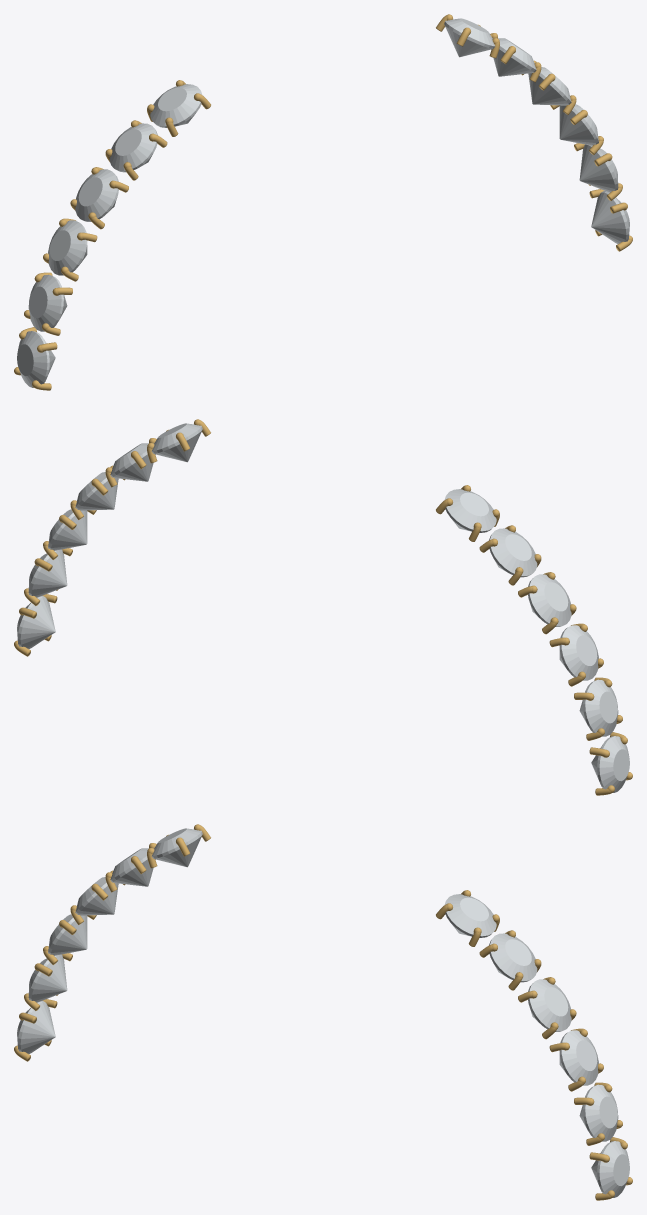
Rendered from accents-pave.glb.
The picture shows the model from 3 angles, top to bottom: view 1: azimuth 30°, elevation 25°; view 2: azimuth 150°, elevation 25°; view 3: azimuth 330°, elevation 25°; orthographic projection.
Parts seen in each view (by area): view 1: Gem.002, Gem.001, Gem.003, Gem, Gem.004, Gem.005, Gem.011, Gem.010, Gem.006, Gem.009, Gem.008, Gem.007; view 2: Gem.002, Gem.001, Gem.003, Gem, Gem.004, Gem.005, Gem.011, Gem.010, Gem.006, Gem.009, Gem.008, Gem.007; view 3: Gem.008, Gem.007, Gem.009, Gem.006, Gem.010, Gem.011, Gem.005, Gem.004, Gem, Gem.003, Gem.002, Gem.001.
Boxes of the visible parts, x1=… form: Gem.002: x1=75, y1=169, x2=118, y2=221; Gem.001: x1=109, y1=123, x2=157, y2=172; Gem.003: x1=48, y1=220, x2=87, y2=275; Gem: x1=150, y1=84, x2=201, y2=127; Gem.004: x1=28, y1=274, x2=67, y2=331; Gem.005: x1=17, y1=331, x2=55, y2=387; Gem.011: x1=591, y1=191, x2=629, y2=243; Gem.010: x1=579, y1=144, x2=618, y2=192; Gem.006: x1=444, y1=18, x2=495, y2=57; Gem.009: x1=559, y1=104, x2=598, y2=145; Gem.008: x1=528, y1=67, x2=571, y2=105; Gem.007: x1=491, y1=38, x2=536, y2=76; Gem.002: x1=528, y1=574, x2=571, y2=626; Gem.001: x1=489, y1=528, x2=537, y2=577; Gem.003: x1=559, y1=625, x2=598, y2=680; Gem: x1=445, y1=489, x2=496, y2=532; Gem.004: x1=579, y1=679, x2=618, y2=736; Gem.005: x1=591, y1=736, x2=629, y2=792; Gem.011: x1=17, y1=596, x2=55, y2=648; Gem.010: x1=28, y1=549, x2=67, y2=597; Gem.006: x1=151, y1=423, x2=202, y2=462; Gem.009: x1=48, y1=509, x2=87, y2=550; Gem.008: x1=75, y1=472, x2=118, y2=510; Gem.007: x1=110, y1=443, x2=155, y2=481; Gem.008: x1=528, y1=979, x2=571, y2=1031; Gem.007: x1=489, y1=933, x2=537, y2=982; Gem.009: x1=559, y1=1030, x2=598, y2=1085; Gem.006: x1=445, y1=894, x2=496, y2=937; Gem.010: x1=579, y1=1084, x2=618, y2=1141; Gem.011: x1=591, y1=1141, x2=629, y2=1197; Gem.005: x1=17, y1=1001, x2=55, y2=1053; Gem.004: x1=28, y1=954, x2=67, y2=1002; Gem: x1=151, y1=828, x2=202, y2=867; Gem.003: x1=48, y1=914, x2=87, y2=955; Gem.002: x1=75, y1=877, x2=118, y2=915; Gem.001: x1=110, y1=848, x2=155, y2=886.
Size of the model in its own units: 19.89 by 8.23 by 1.65.
